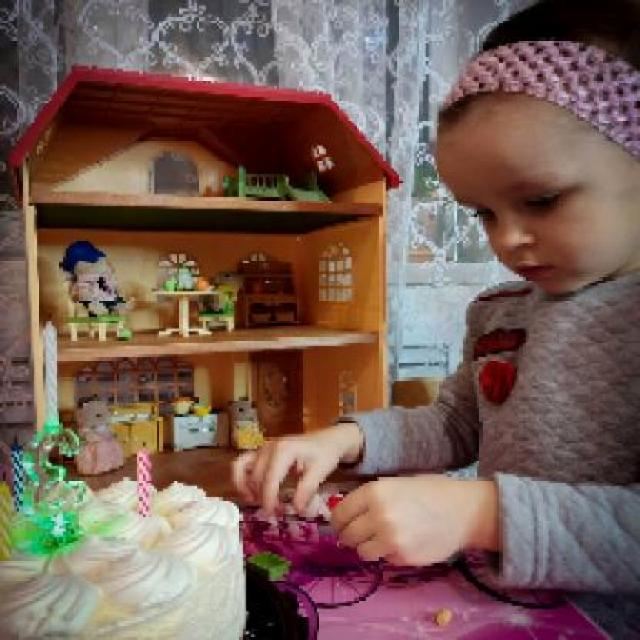child: (231, 1, 640, 596)
